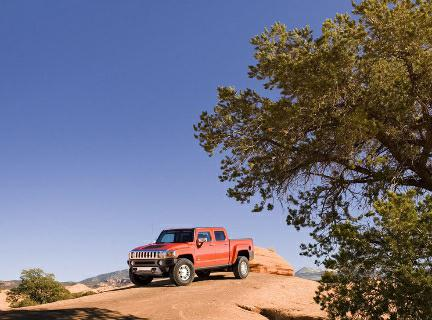悍马-H3: (125, 226, 258, 287)
